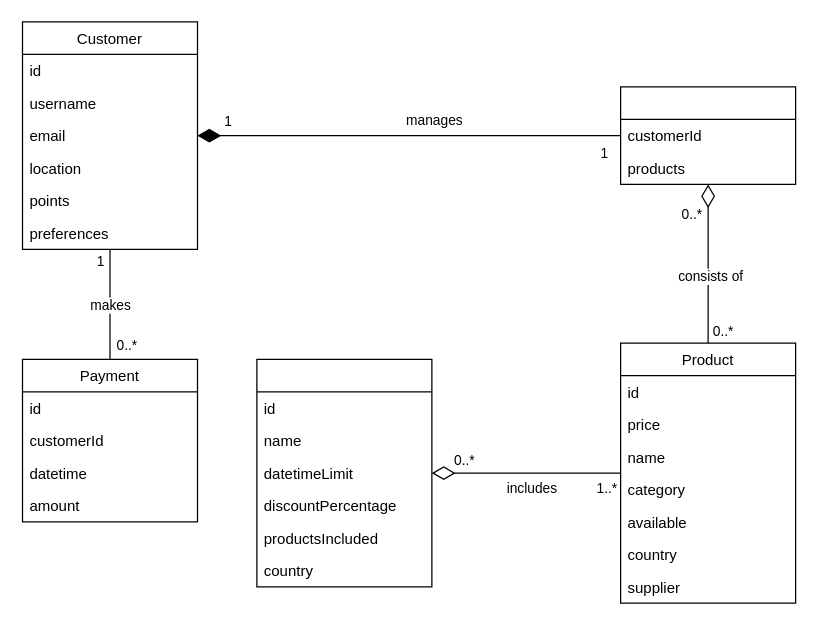
Some shapes in this 818 by 629 pixel diagram are drawn without their labels. Each missing label, with the box of its shape:
Cart: (619, 86, 796, 184)
Offer: (256, 358, 432, 587)
